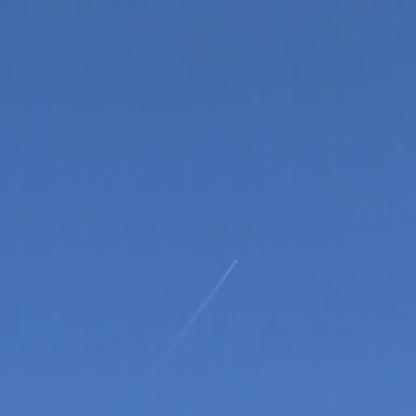CIV_Plane: (232, 257, 242, 266)
